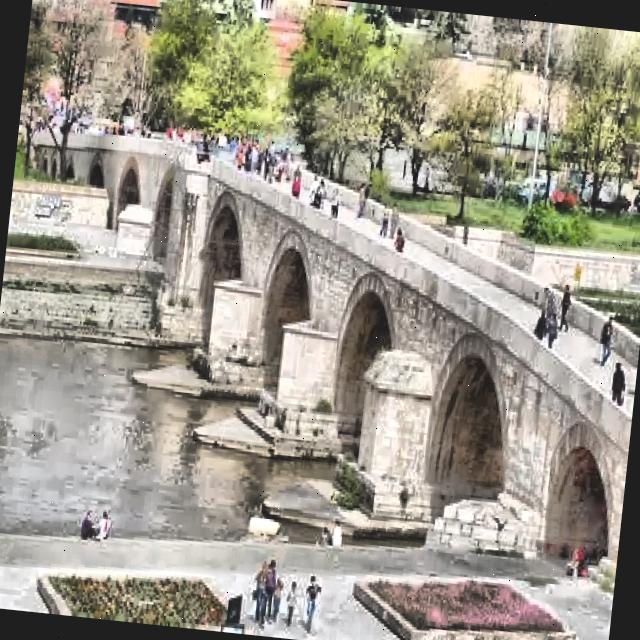stone bridge: (0, 112, 640, 578)
